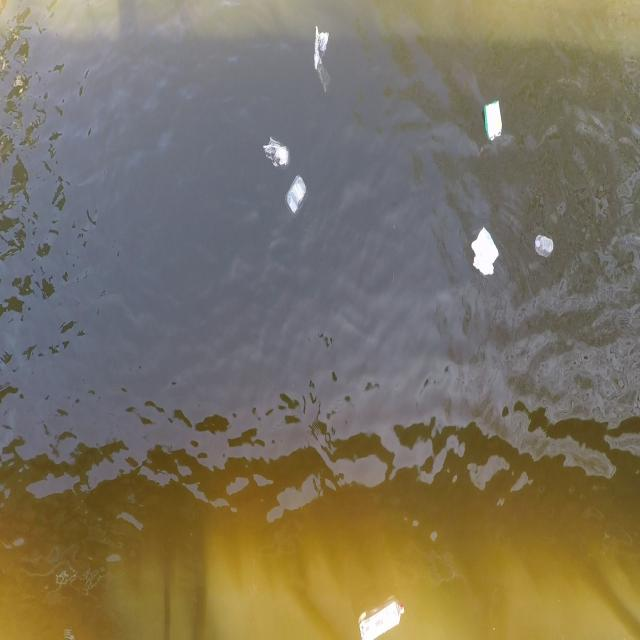Autre plastique: (470, 223, 498, 287), (281, 174, 310, 226), (484, 100, 502, 148)
Bouteille plastique: (353, 594, 407, 640), (532, 234, 554, 258)
